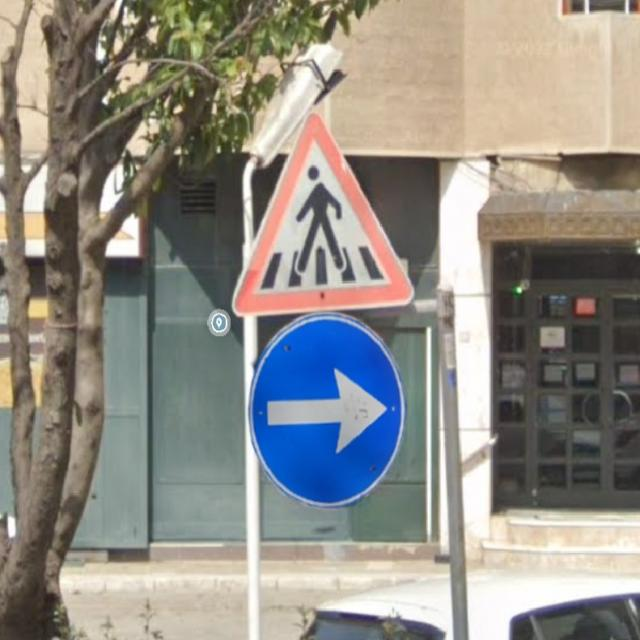Turn Right: (244, 319, 416, 509)
